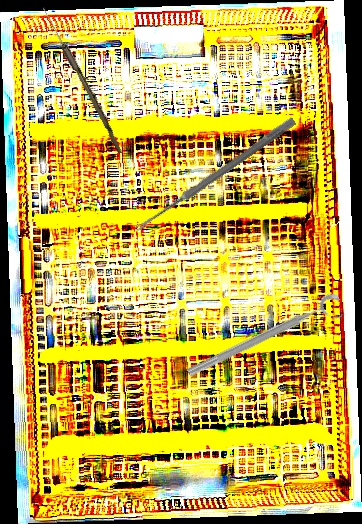Fixation Ring: (184, 290, 348, 390)
Surgical Spoon: (133, 115, 297, 235), (39, 5, 126, 155)
